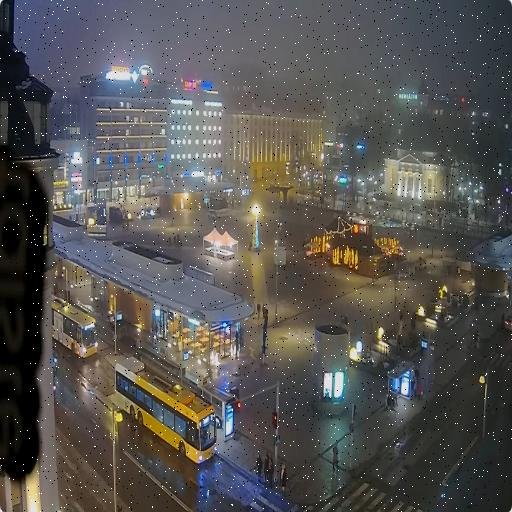Bus: (116, 357, 217, 462), (53, 297, 98, 356)
